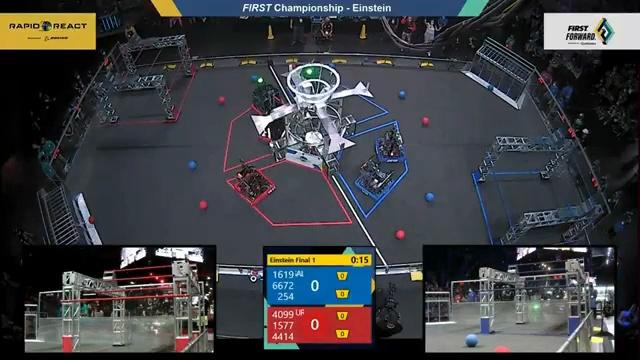robot: (229, 157, 277, 208), (351, 156, 394, 203), (367, 125, 409, 162), (255, 105, 291, 145), (248, 82, 284, 116)
